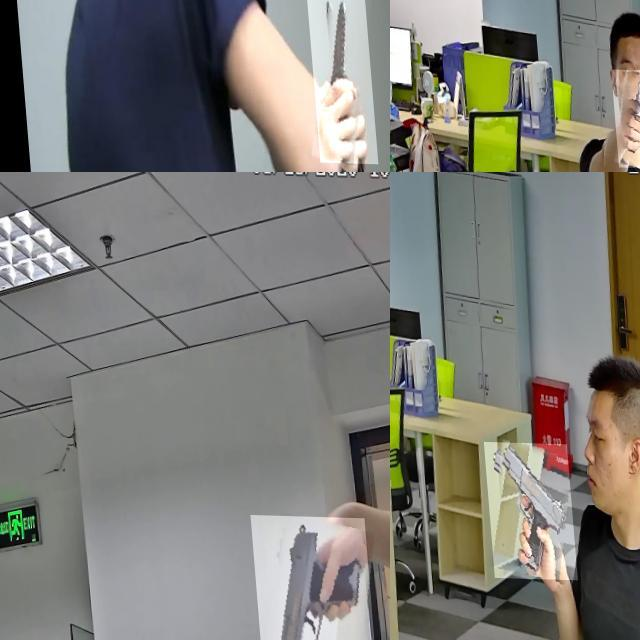-: (303, 0, 371, 162)
gun-knife-thesis - v11 Yolov5 augmented: (243, 512, 371, 640), (479, 440, 570, 578), (607, 67, 640, 166)
